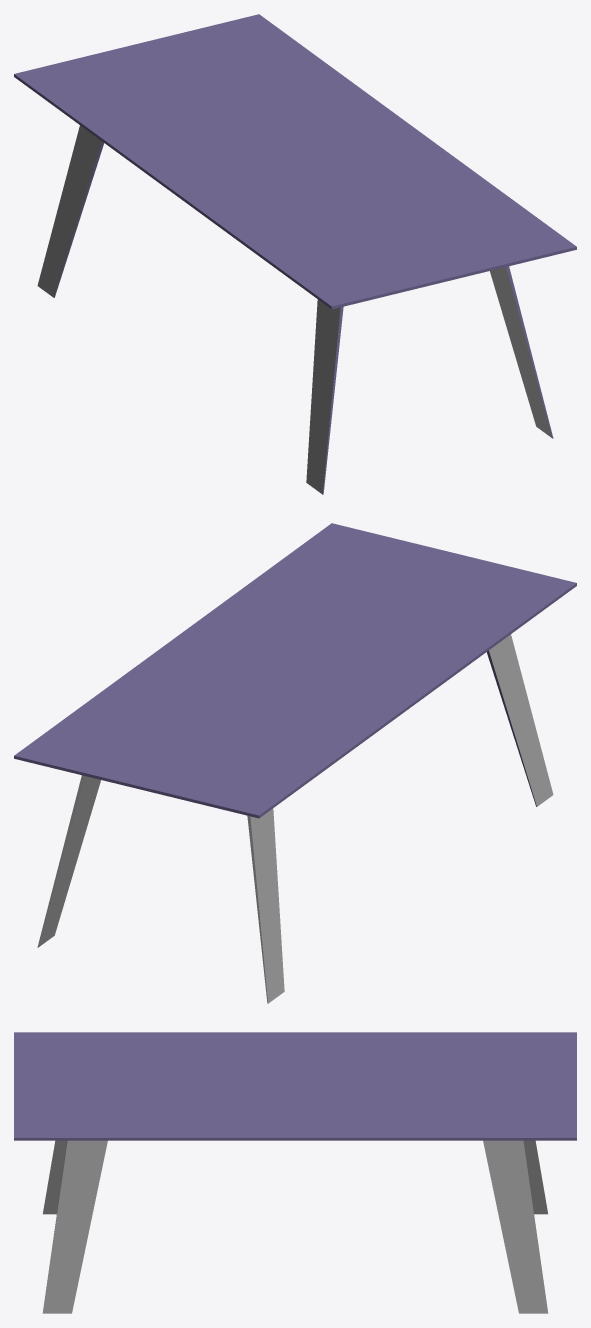
File: Table 1.fbx
3 renders of one model, top to bottom at view 1: azimuth 30°, elevation 25°; view 2: azimuth 150°, elevation 25°; view 3: azimuth 270°, elevation 25°, orthographic. The views are drawn at different scales.
Visible parts, largest first — view 1: Table; view 2: Table; view 3: Table.
Part boxes in pixels (box(x1,y1,x2,y2)): Table: box(14, 14, 576, 494); Table: box(14, 523, 576, 1003); Table: box(14, 1032, 576, 1313).
Bounding box in the file's own units: 1 × 0.7867 × 2.25.
